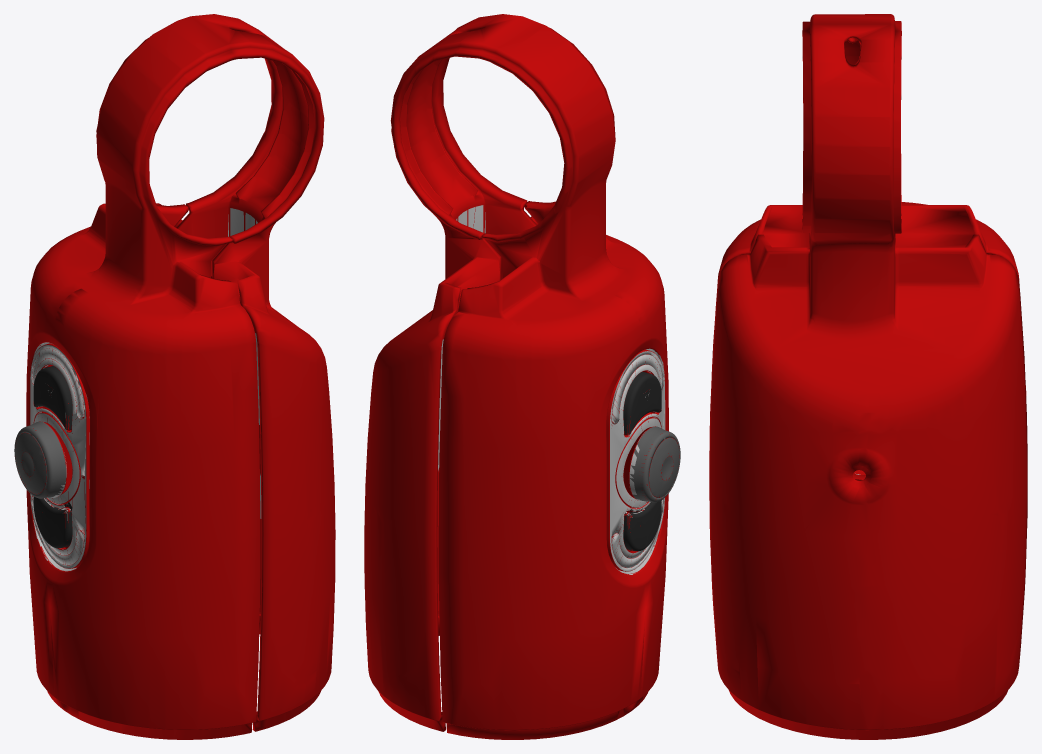
The picture shows the model from 3 angles, left to right: view 1: azimuth 30°, elevation 25°; view 2: azimuth 150°, elevation 25°; view 3: azimuth 270°, elevation 25°; orthographic projection. The views are drawn at different scales.
Visible parts, largest first — view 1: W0; view 2: W0; view 3: W0.
Boxes of the visible parts, x1,y1,x2,y2 form: W0: (14, 14, 335, 739); W0: (364, 14, 680, 739); W0: (709, 14, 1027, 739).
Bounding box in the file's own units: 0.1581 × 0.3418 × 0.1483.
